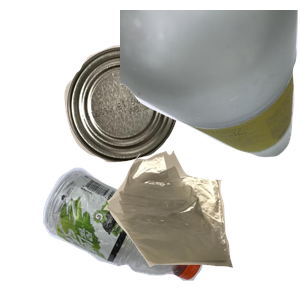glass: (120, 10, 300, 160)
metal: (62, 43, 232, 198)
plastic: (40, 165, 235, 300)
trash: (101, 148, 300, 300)
